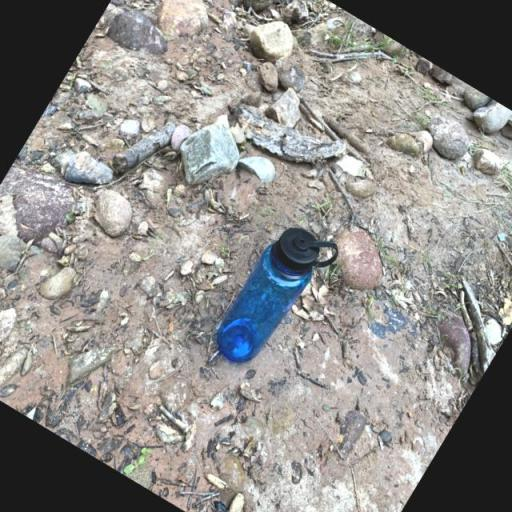bottle: (206, 208, 345, 380)
